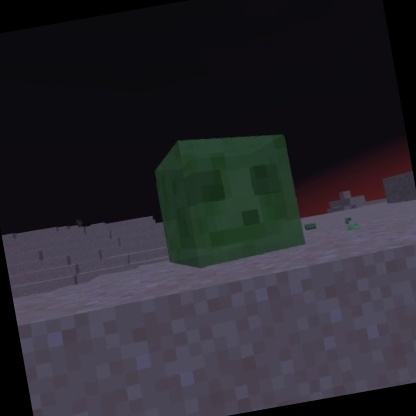slime: (143, 115, 312, 277)
